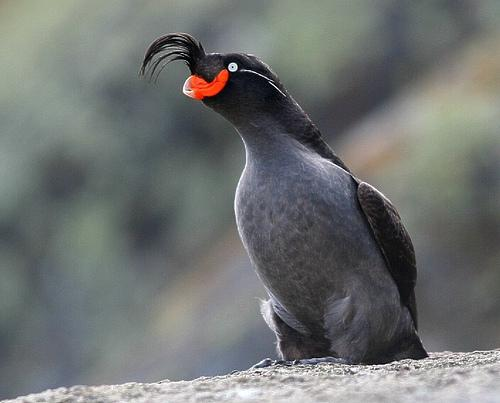005.Crested_Auklet: (141, 31, 429, 370)
